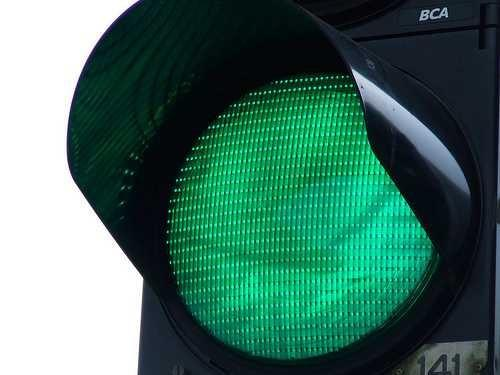green: (70, 0, 486, 375)
